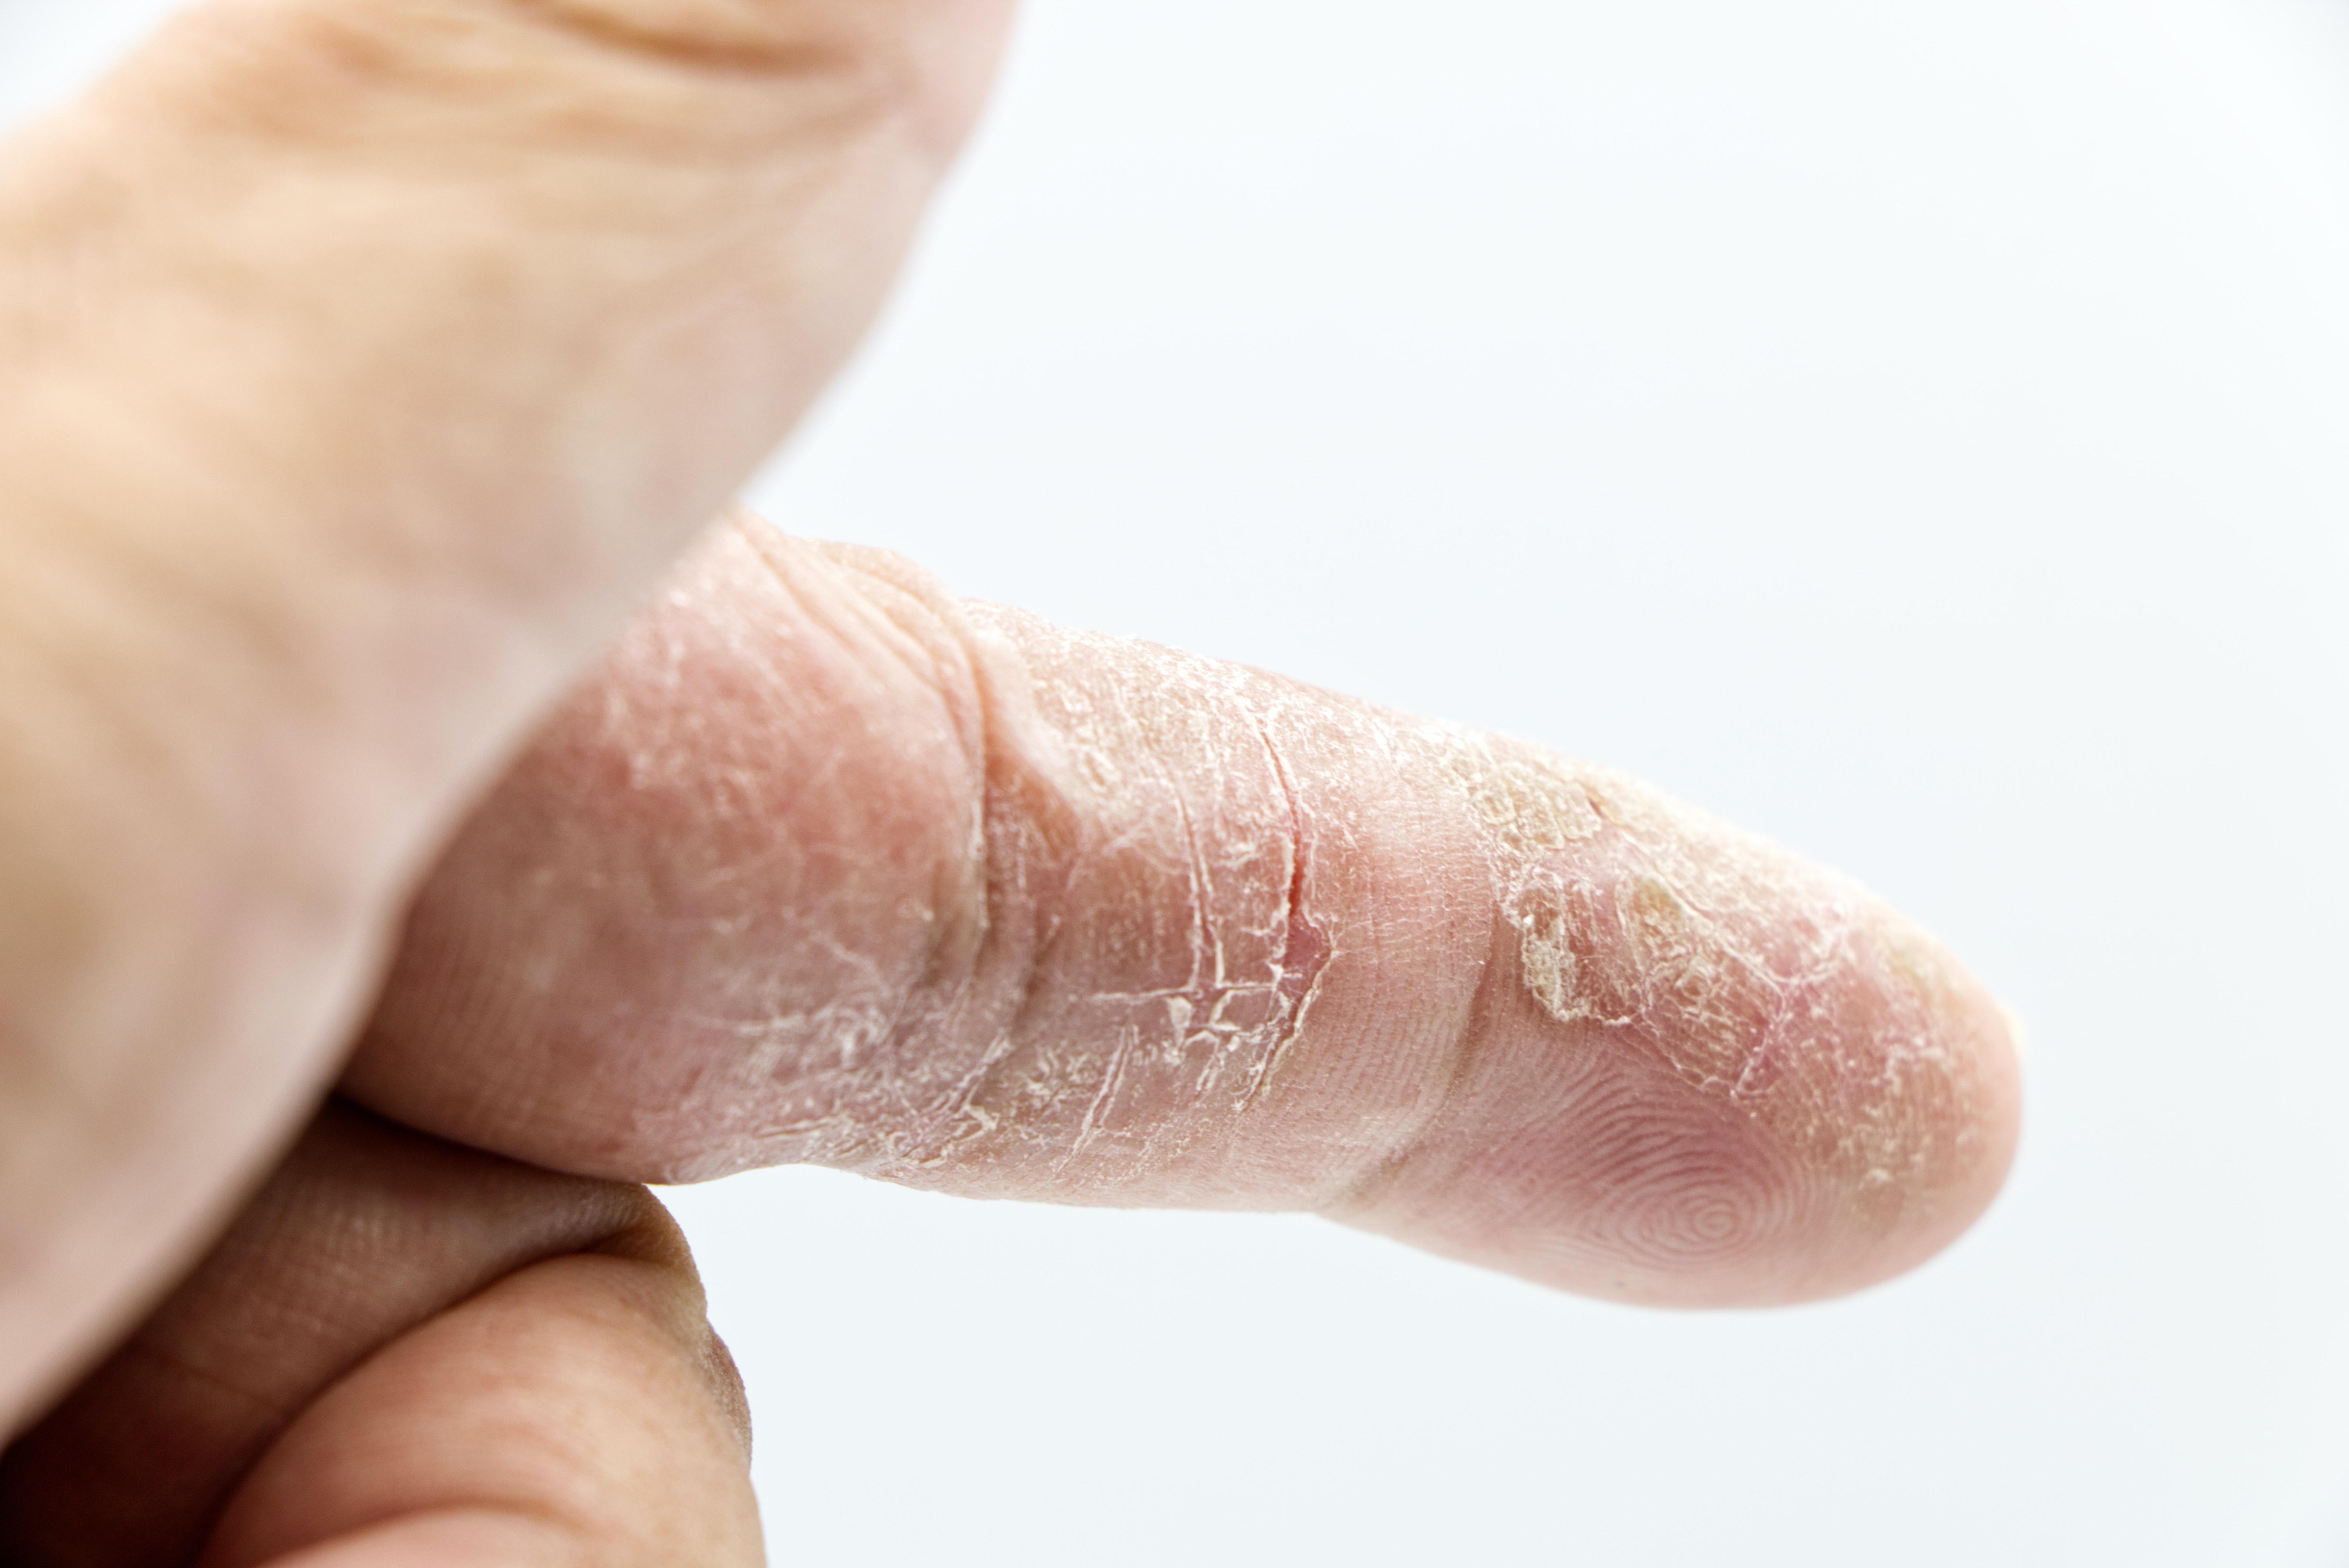Dry-Skin: (593, 532, 1332, 1192), (1432, 719, 2041, 1206)
